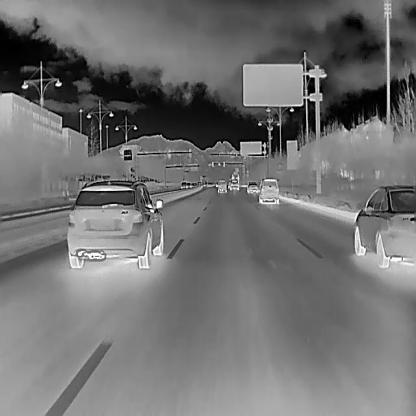car: (66, 178, 163, 268), (353, 184, 415, 268), (257, 177, 279, 204), (216, 180, 227, 194), (246, 182, 258, 194), (229, 179, 239, 190), (230, 170, 239, 180), (180, 181, 187, 188), (186, 180, 192, 188), (196, 180, 202, 186)
